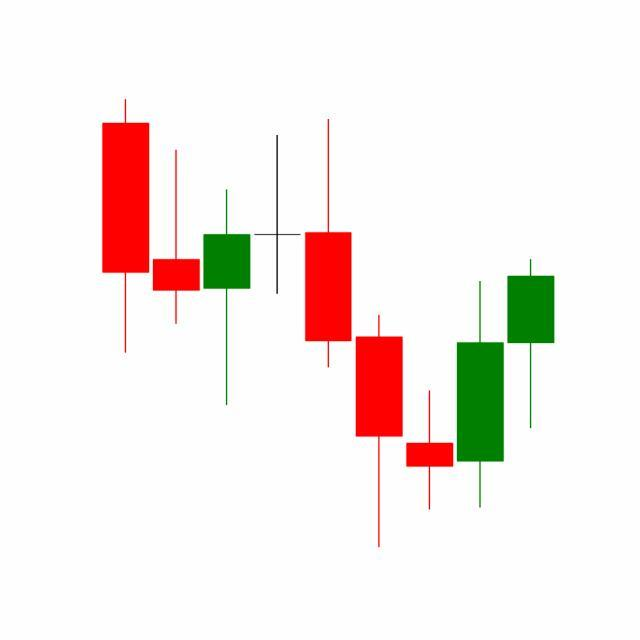Hikkake Pattern: (252, 115, 506, 549)
